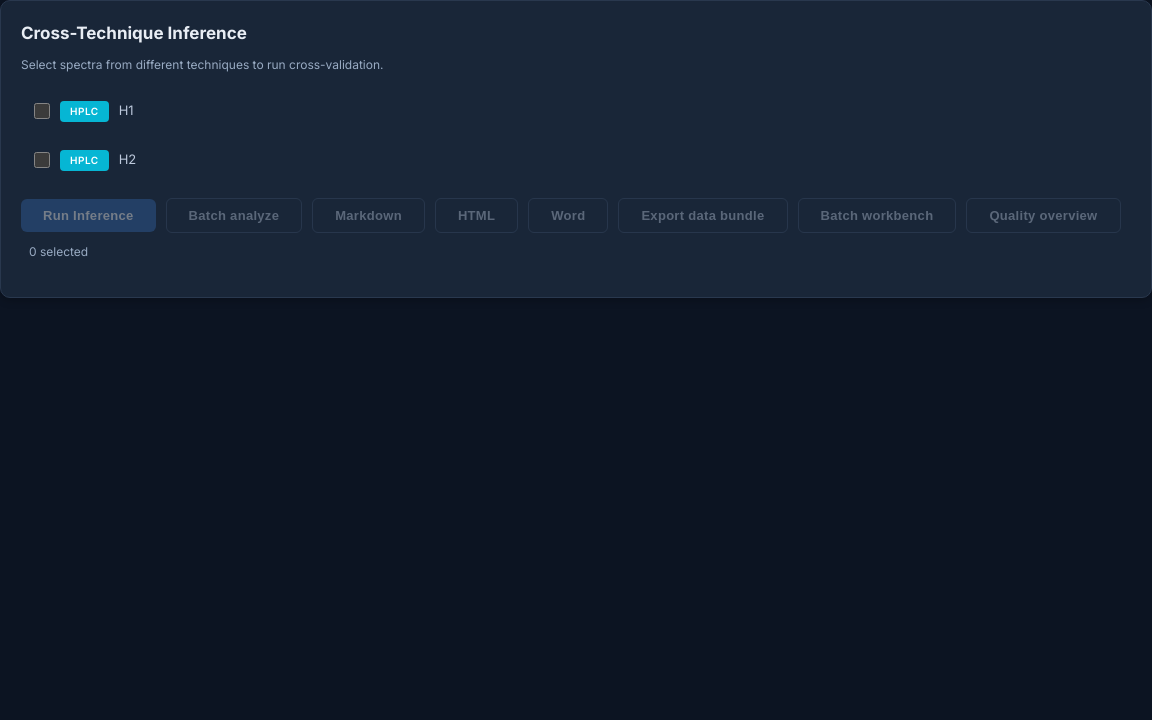
Scenario: frontend polish i18n coverage › renders InferencePanel export buttons and table headers through i18n (en)
Expected: the button "Markdown" is shown, [312,198,425,233]
Expected: the button "HTML" is shown, [435,198,518,233]
Step 1. Click the checkbox labelled "HPLC H1" → (42, 111), box [34,103,50,119]
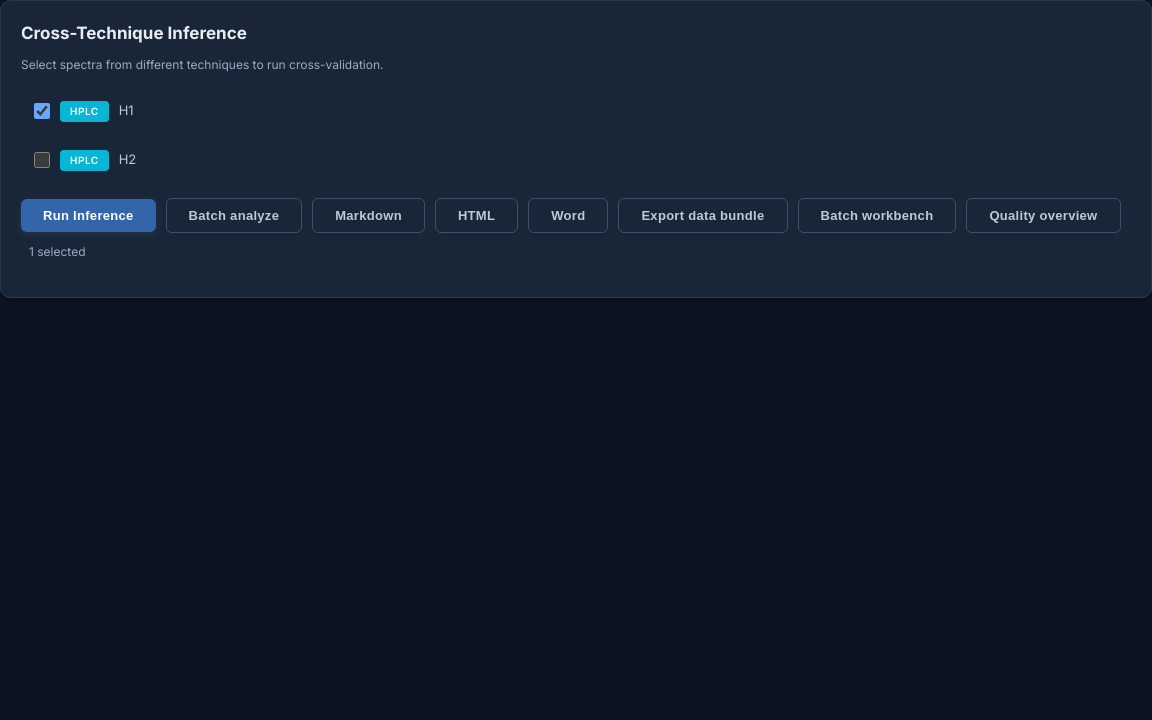
Step 2. Click the checkbox labelled "HPLC H2" → (42, 160), box [34,152,50,168]
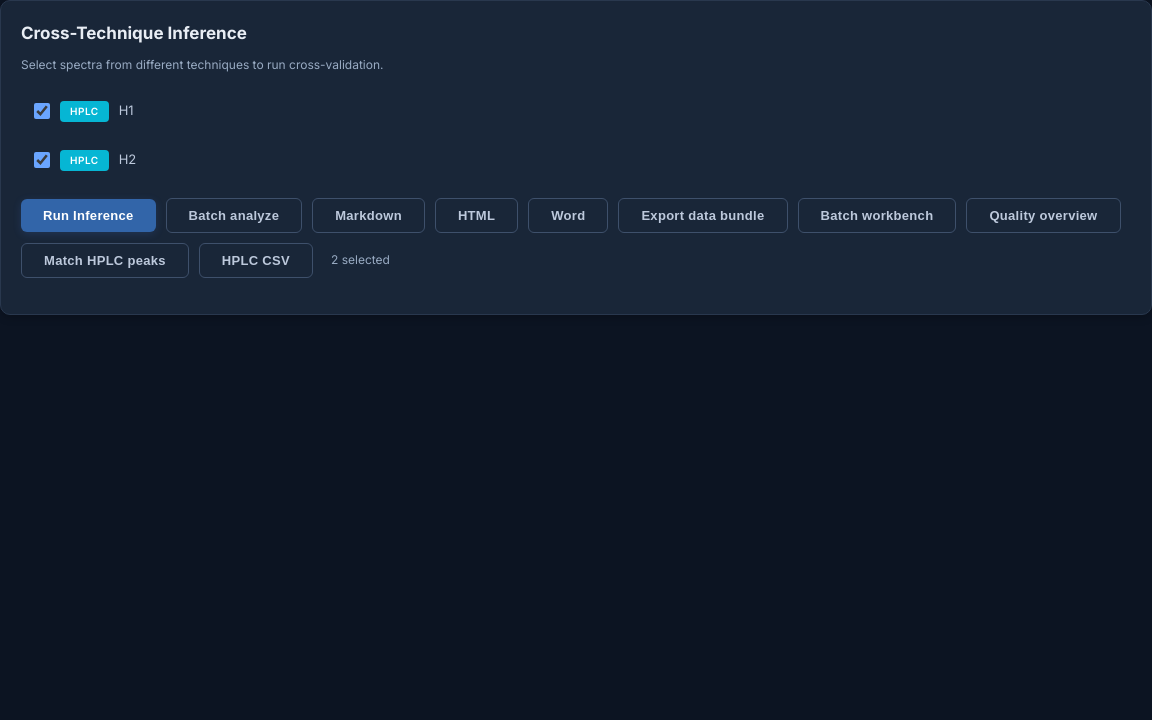
Expected: the button "HPLC CSV" is shown, [199,243,313,278]
Step 3. Click the button "Quality overview" → (1043, 215), box [966,198,1120,233]
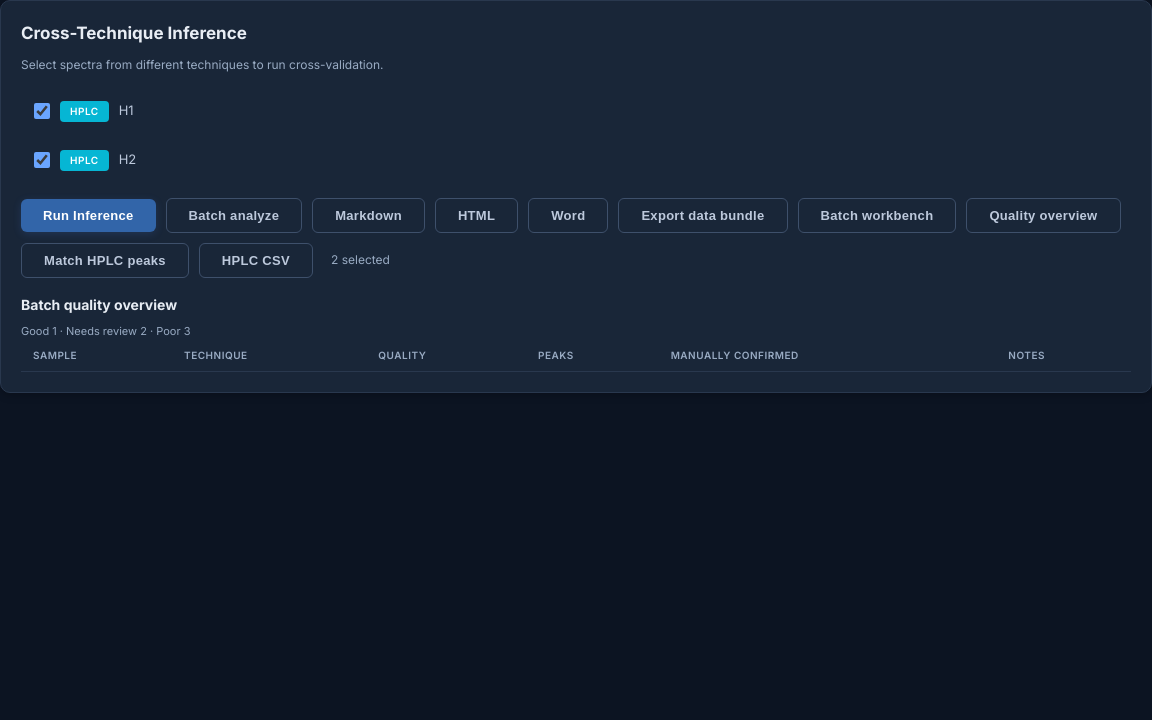
Expected: the text "Good 1 · Needs review 2 · Poor 3" is shown, [21,324,190,338]
Step 4. Click the button "Match HPLC peaks" → (105, 260), box [21,243,189,278]
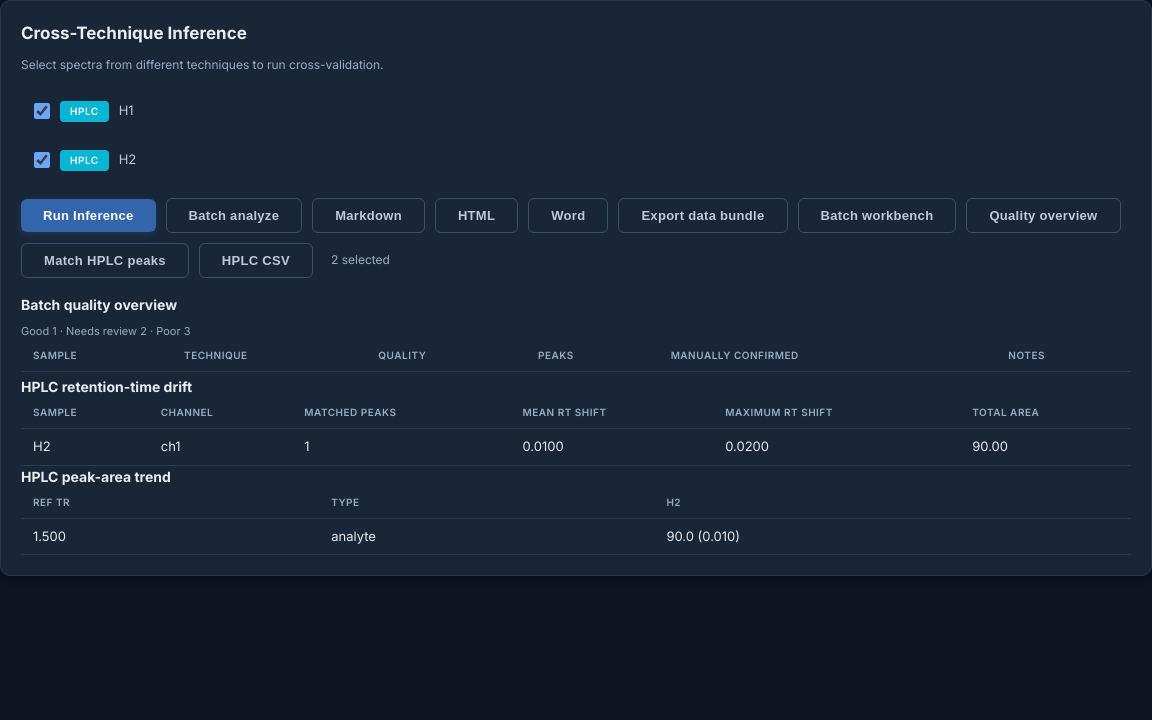
Expected: the column heading "Total area" is shown, [960,397,1131,429]
Expected: the column heading "Ref tR" is shown, [21,487,319,518]
Expected: the column heading "Type" is shown, [319,487,654,518]
